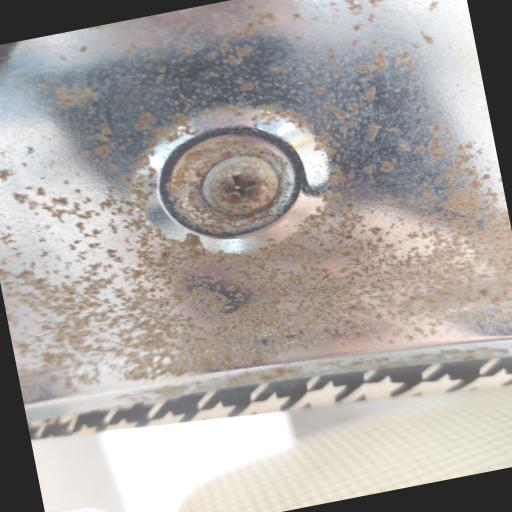Phillips: (198, 145, 293, 224)
